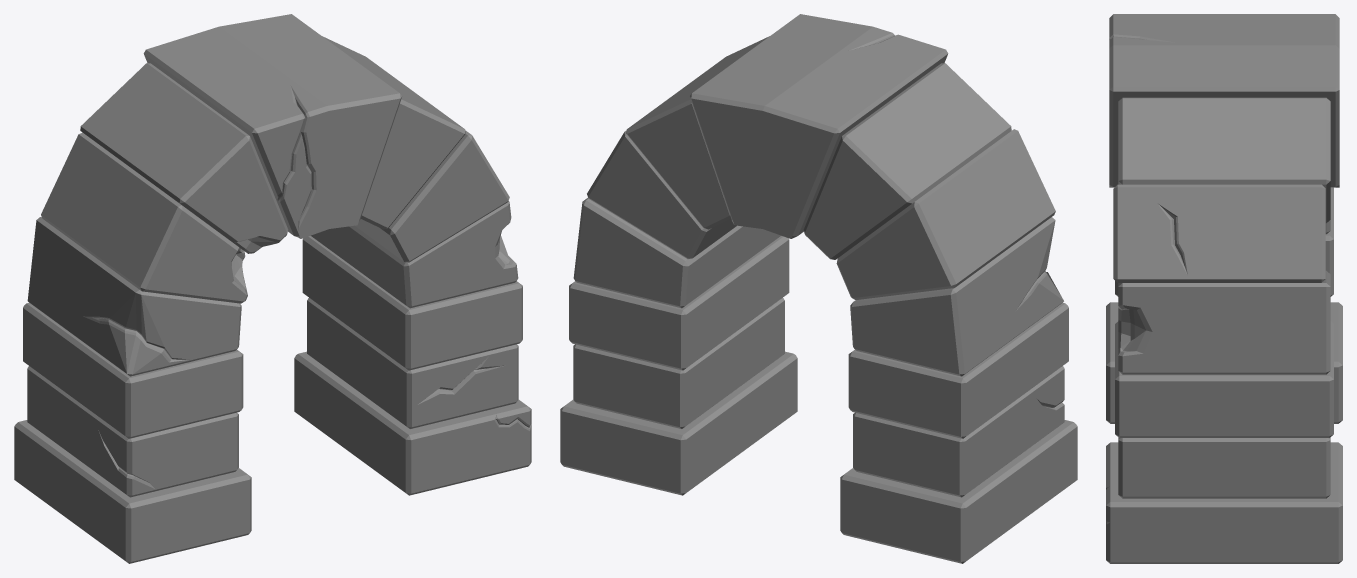
File: GateEntrance.fbx
3 renders of one model, left to right at view 1: azimuth 30°, elevation 25°; view 2: azimuth 150°, elevation 25°; view 3: azimuth 270°, elevation 25°, orthographic. The views are drawn at different scales.
Visible parts, largest first — view 1: GatesBlocks.003; view 2: GatesBlocks.003; view 3: GatesBlocks.003.
Part boxes in pixels (x1,y1,x2,y2): GatesBlocks.003: [14, 14, 531, 563]; GatesBlocks.003: [560, 14, 1077, 563]; GatesBlocks.003: [1106, 14, 1342, 563].
Size of the model in its own units: 370 by 355 by 182.
